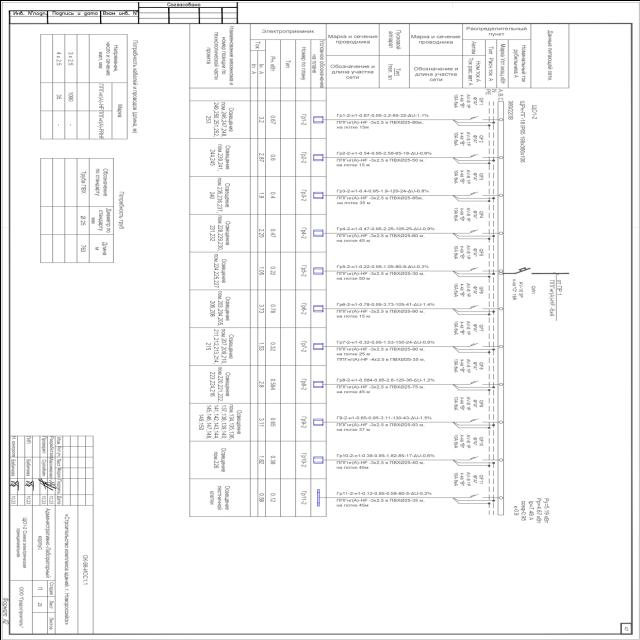-: (518, 99, 526, 161), (452, 92, 478, 109), (452, 206, 478, 222), (451, 243, 477, 259), (452, 282, 478, 298), (451, 394, 477, 410), (451, 168, 477, 184), (451, 470, 477, 486), (452, 130, 478, 146), (452, 432, 478, 448), (452, 319, 478, 335), (452, 357, 476, 372), (510, 278, 522, 302)
QF: (512, 264, 534, 274), (468, 492, 484, 498), (467, 454, 483, 460), (467, 342, 483, 348), (467, 304, 483, 310), (467, 190, 483, 196), (467, 152, 482, 158), (467, 114, 482, 120), (468, 378, 483, 384), (468, 265, 483, 271), (468, 228, 483, 234), (468, 417, 483, 423)
